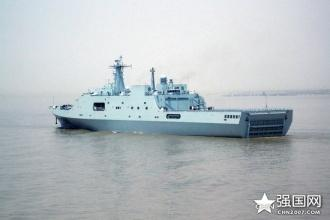warship: (43, 53, 297, 139)
